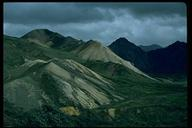cloud: (88, 10, 183, 35)
mountain: (3, 24, 190, 123)
sky: (6, 3, 183, 26)
